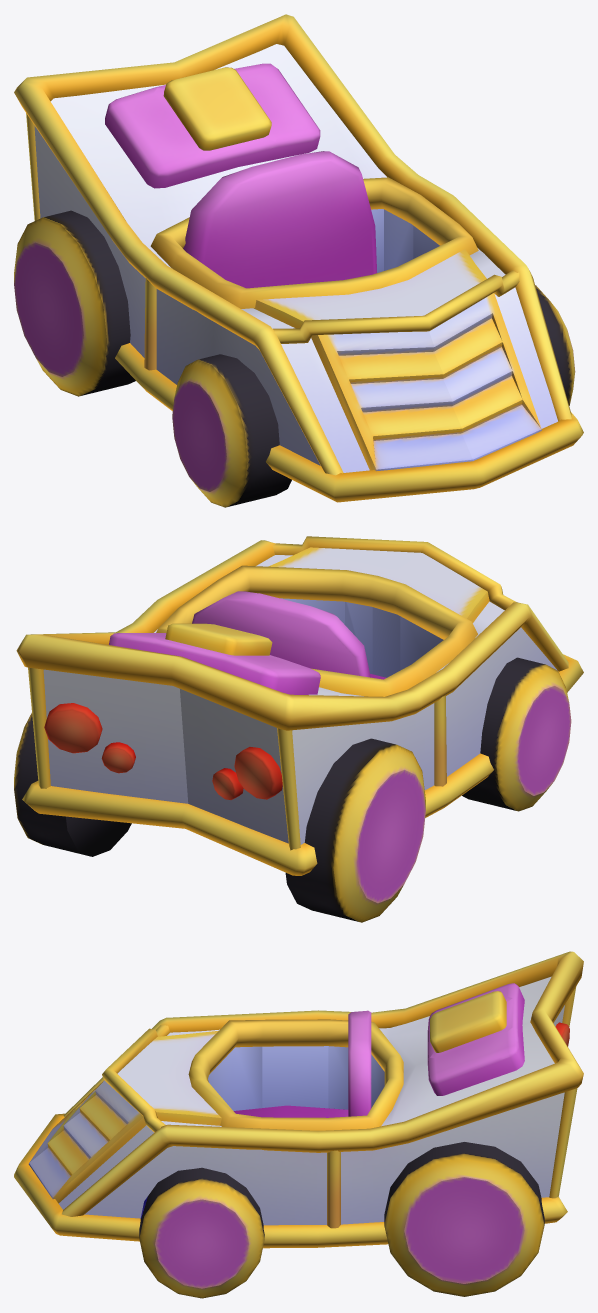
File: gonka.fbx
The picture shows the model from 3 angles, top to bottom: view 1: azimuth 30°, elevation 25°; view 2: azimuth 150°, elevation 25°; view 3: azimuth 270°, elevation 25°; orthographic projection. The views are drawn at different scales.
Visible parts, largest first — view 1: Cube.032; view 2: Cube.032; view 3: Cube.032.
Part boxes in pixels (<box>): Cube.032: <box>14,14,583,507</box>; Cube.032: <box>14,536,583,922</box>; Cube.032: <box>14,951,583,1298</box>.
Bounding box in the file's own units: 2.19 × 1.58 × 3.6.
